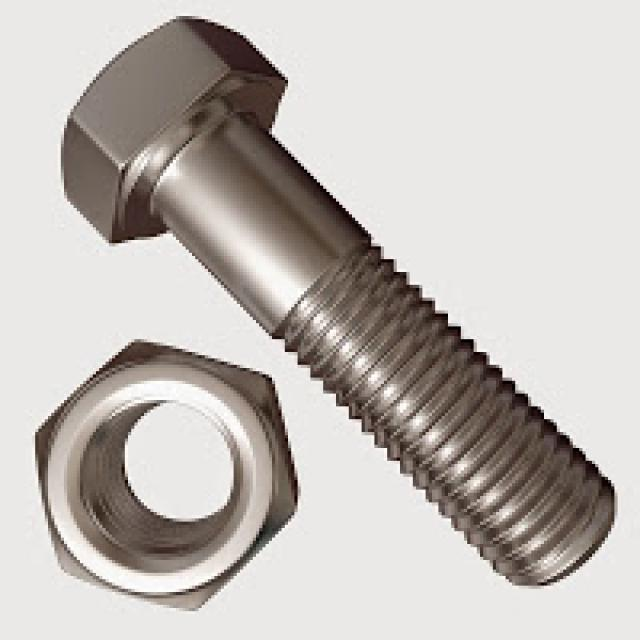Logam: (30, 0, 619, 622)
